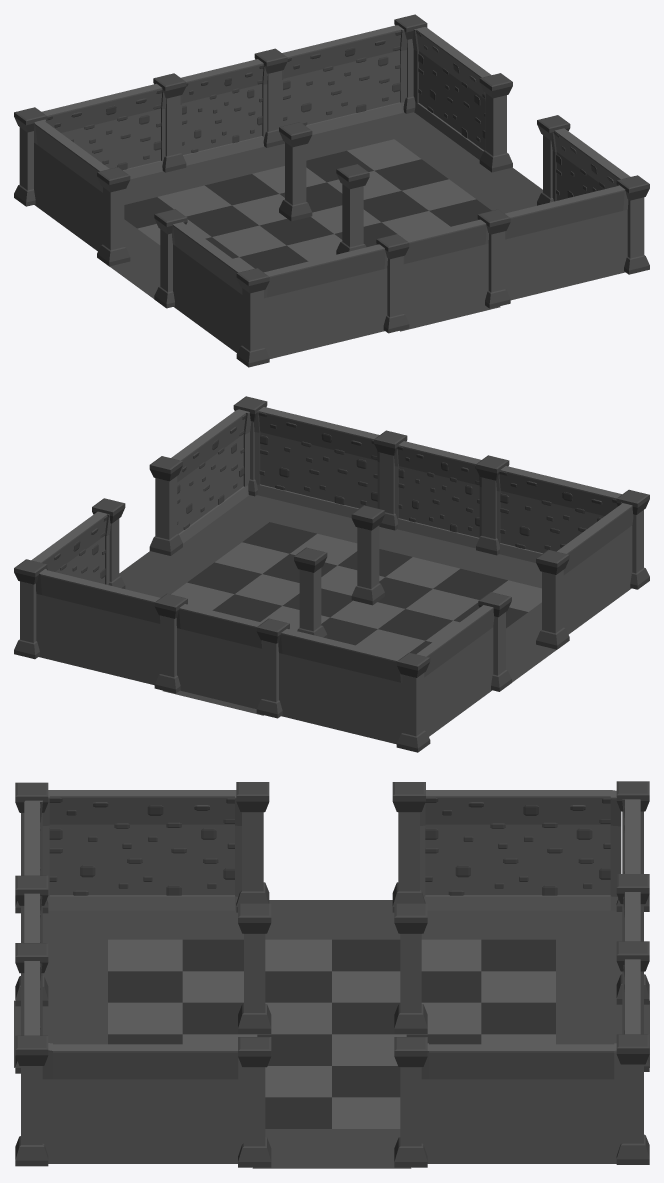
The model's file is StoneFloorRoomVar6.fbx.
3 renders of one model, top to bottom at view 1: azimuth 30°, elevation 25°; view 2: azimuth 150°, elevation 25°; view 3: azimuth 270°, elevation 25°, orthographic. The views are drawn at different scales.
Visible parts, largest first — view 1: StoneWallRoomVar6, StoneFloorRoomVar6; view 2: StoneWallRoomVar6, StoneFloorRoomVar6; view 3: StoneWallRoomVar6, StoneFloorRoomVar6.
Part boxes in pixels (box(x1,y1,x2,y2)): StoneWallRoomVar6: box(14, 14, 649, 367); StoneFloorRoomVar6: box(109, 112, 542, 331); StoneWallRoomVar6: box(14, 396, 649, 752); StoneFloorRoomVar6: box(119, 495, 556, 715); StoneWallRoomVar6: box(15, 781, 649, 1167); StoneFloorRoomVar6: box(14, 900, 649, 1168).
Size of the model in its own units: 800 by 165 by 796.
Materials: 1 (1 with a texture image).
